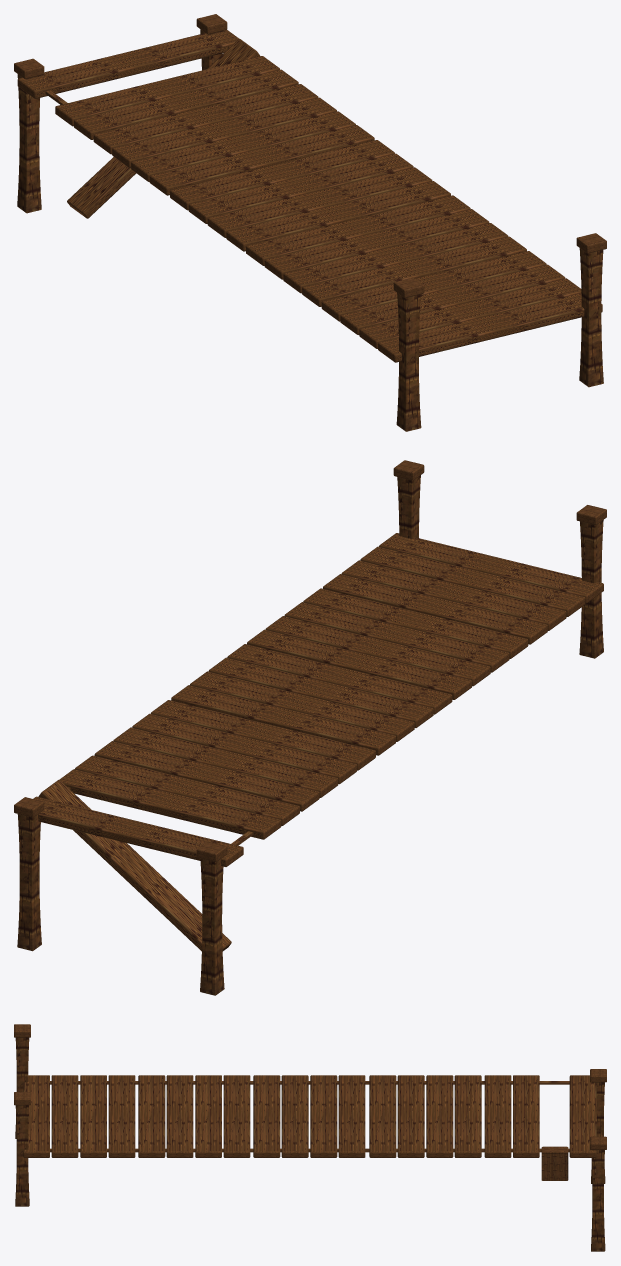
File: steeg.fbx
The picture shows the model from 3 angles, top to bottom: view 1: azimuth 30°, elevation 25°; view 2: azimuth 150°, elevation 25°; view 3: azimuth 270°, elevation 25°; orthographic projection. The views are drawn at different scales.
Visible parts, largest first — view 1: Würfel_5_2, Würfel_23, Würfel_11, Würfel_7, Würfel_15, Würfel_19, Würfel_13, Würfel_17, Würfel_9, Würfel_14, Würfel_8, Würfel_10 (+11 smaller); view 2: Würfel_6, Würfel_4_2, Würfel_5_2, Würfel_12, Würfel_8, Würfel_20, Würfel_16, Würfel_14, Würfel_22, Würfel_10, Würfel_18, Würfel_15 (+12 smaller); view 3: Würfel_8, Würfel_9, Würfel_10, Würfel_11, Würfel_12, Würfel_13, Würfel_14, Würfel_15, Würfel_18, Würfel_19, Würfel_7, Würfel_16 (+12 smaller).
Part boxes in pixels (x1,y1,x2,y2): Würfel_5_2: (17, 30, 239, 98); Würfel_23: (378, 293, 602, 362); Würfel_11: (149, 125, 374, 195); Würfel_7: (74, 69, 298, 139); Würfel_15: (226, 181, 450, 251); Würfel_19: (302, 236, 526, 306); Würfel_13: (188, 153, 413, 223); Würfel_17: (264, 209, 489, 279); Würfel_9: (112, 97, 336, 167); Würfel_14: (207, 167, 432, 237); Würfel_8: (93, 84, 318, 154); Würfel_10: (131, 111, 355, 181); Würfel_6: (59, 769, 281, 839); Würfel_4_2: (38, 779, 231, 951); Würfel_5_2: (33, 796, 243, 866); Würfel_12: (171, 685, 395, 755); Würfel_8: (94, 741, 319, 811); Würfel_20: (323, 574, 547, 644); Würfel_16: (247, 629, 471, 699); Würfel_14: (208, 657, 433, 727); Würfel_22: (360, 546, 585, 616); Würfel_10: (132, 713, 357, 784); Würfel_18: (284, 602, 509, 672); Würfel_15: (227, 644, 452, 714); Würfel_8: (454, 1075, 481, 1157); Würfel_9: (426, 1075, 453, 1157); Würfel_10: (397, 1075, 424, 1157); Würfel_11: (369, 1075, 396, 1157); Würfel_12: (338, 1075, 365, 1157); Würfel_13: (310, 1075, 337, 1157); Würfel_14: (281, 1075, 308, 1157); Würfel_15: (253, 1075, 280, 1157); Würfel_18: (166, 1075, 193, 1157); Würfel_19: (138, 1075, 165, 1157); Würfel_7: (484, 1075, 511, 1157); Würfel_16: (223, 1075, 250, 1157).
Size of the model in its own units: 384 by 357 by 1249.
5 materials, 5 textured.
